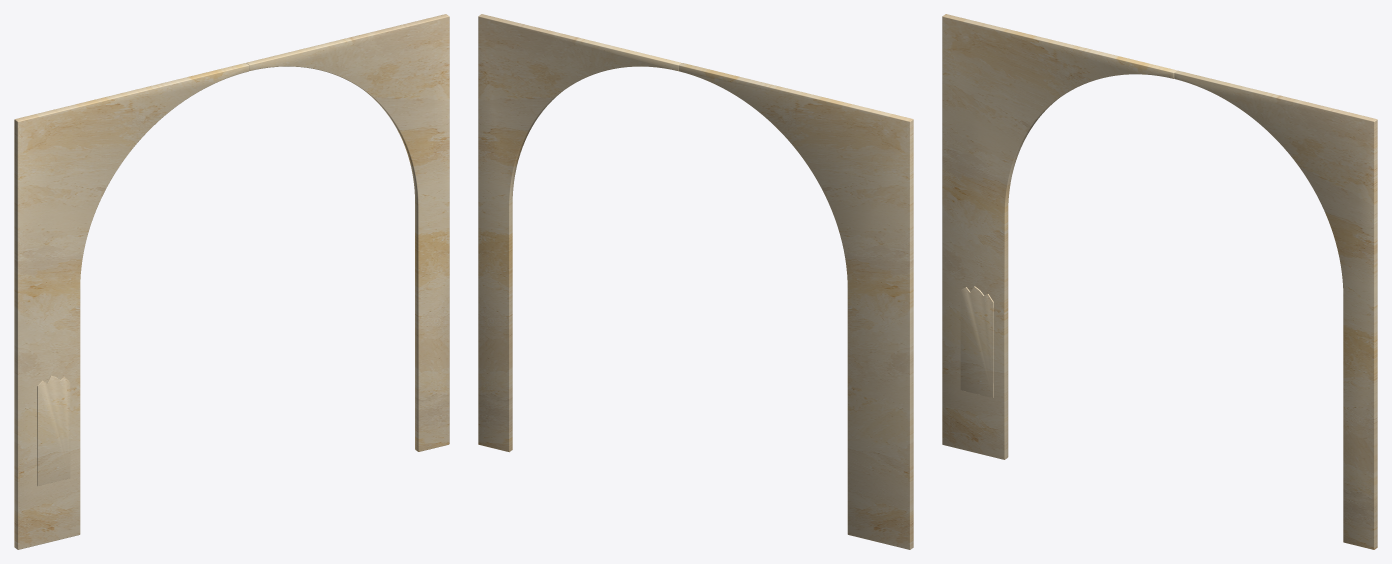
The model's file is CM_EW11_LimeReturns.fbx.
3 renders of one model, left to right at view 1: azimuth 30°, elevation 25°; view 2: azimuth 150°, elevation 25°; view 3: azimuth 330°, elevation 25°, orthographic.
Parts seen in each view (by area): view 1: CM_EW11_LimeReturns; view 2: CM_EW11_LimeReturns; view 3: CM_EW11_LimeReturns.
Part boxes in pixels (left/top/right/bottom): CM_EW11_LimeReturns: left=14, top=14, right=449, bottom=549; CM_EW11_LimeReturns: left=478, top=14, right=913, bottom=549; CM_EW11_LimeReturns: left=942, top=14, right=1377, bottom=549.
Bounding box in the file's own units: 3.17 × 3 × 0.055.
